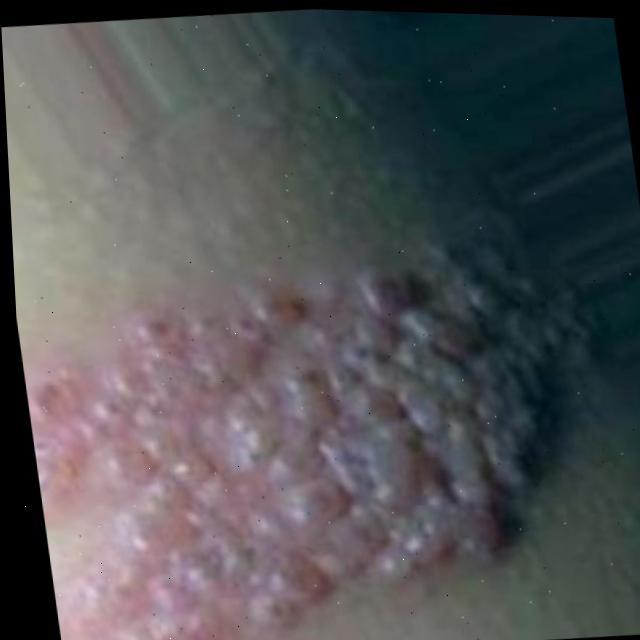Shingles: (13, 249, 575, 640)
